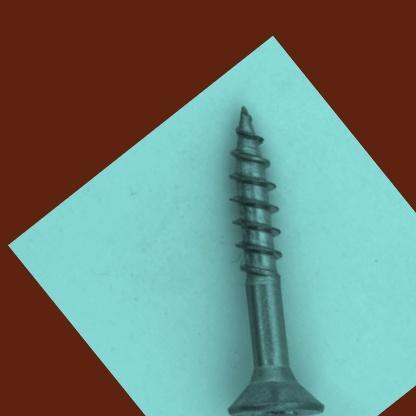metal: (227, 104, 326, 416)
